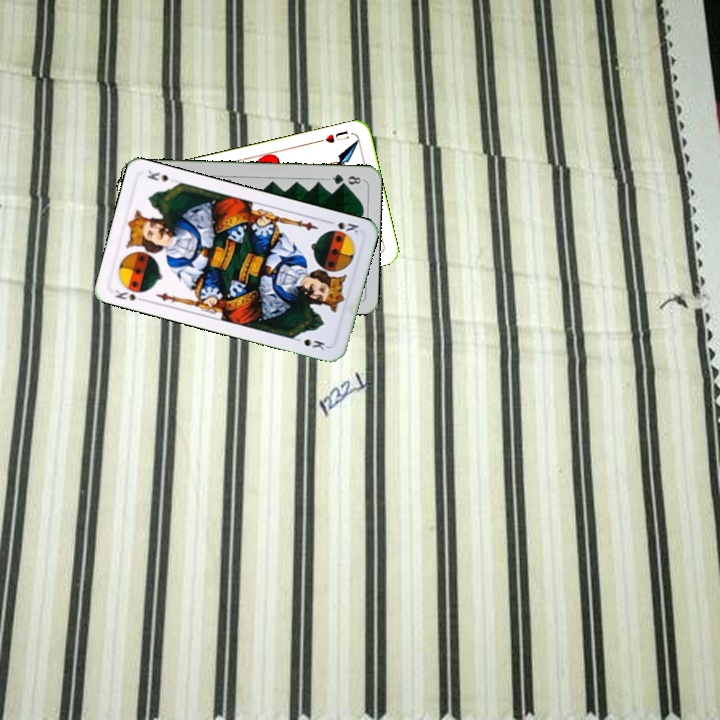G8: (325, 170, 365, 188)
HU: (321, 126, 351, 146)
SK: (111, 282, 149, 304), (323, 216, 361, 236)
